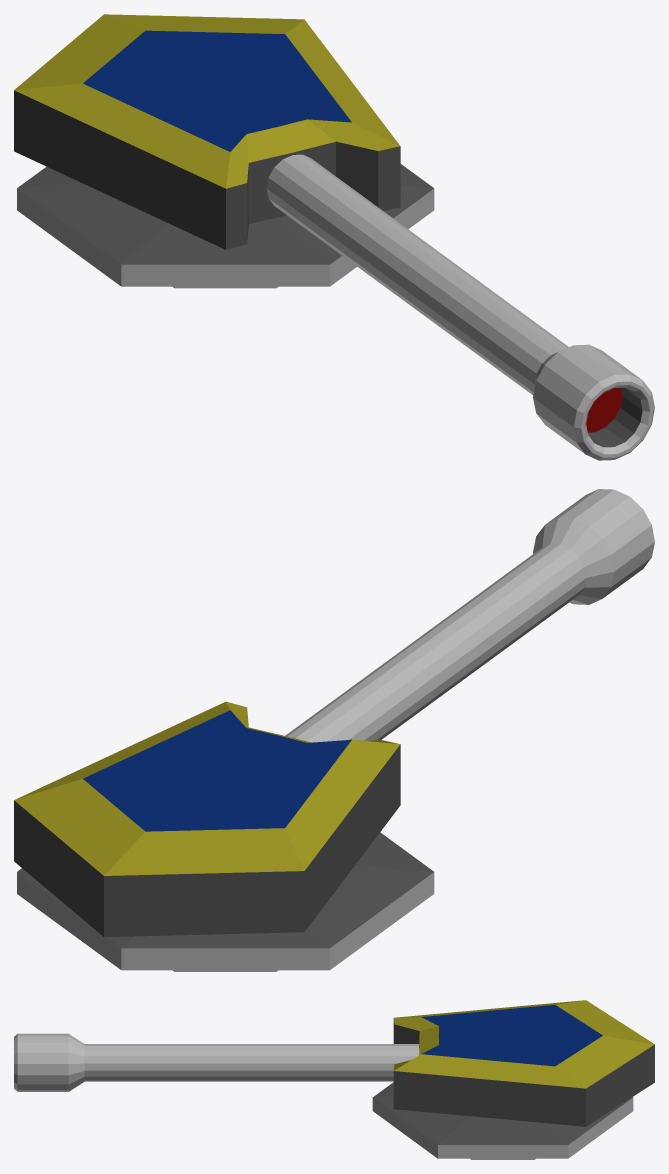
Rendered from Cannon.fbx.
3 views of the same model, one above another, from view 1: azimuth 30°, elevation 25°; view 2: azimuth 150°, elevation 25°; view 3: azimuth 270°, elevation 25° (orthographic). The views are drawn at different scales.
Visible parts, largest first — view 1: Turret.001; view 2: Turret.001; view 3: Turret.001.
Boxes of the visible parts, left/top/right/bottom form: Turret.001: left=14, top=14, right=654, bottom=460; Turret.001: left=14, top=489, right=654, bottom=971; Turret.001: left=14, top=1000, right=654, bottom=1159.
Bounding box in the file's own units: 68.14 × 33.67 × 194.
